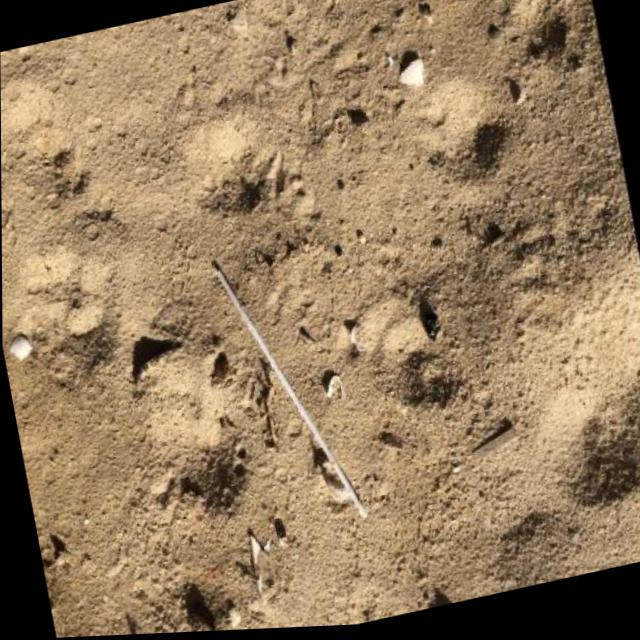plastic: (217, 245, 370, 542)
